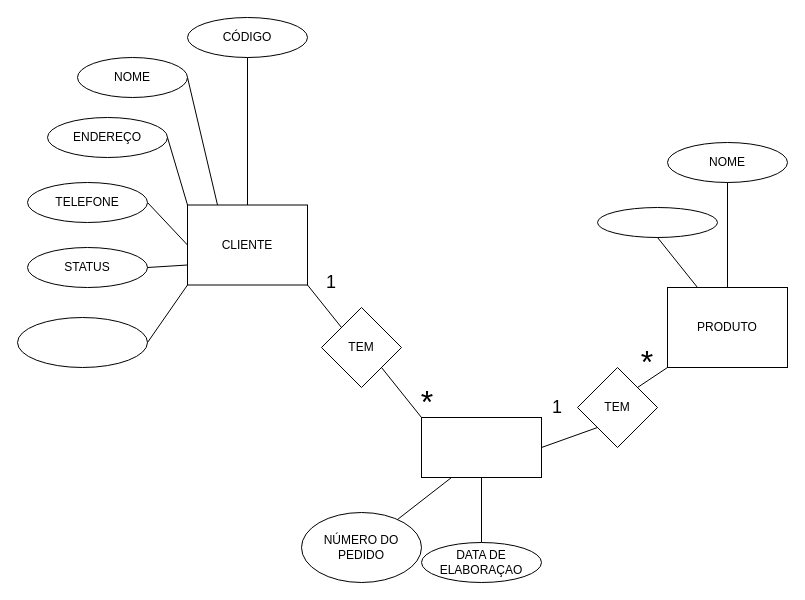
Image size: 805x600. Some labels were removed from this diagram. The shapes that lost their labels are listed below. From the top down, each one's box as (x1, y1, x2, y2) in pixels, then its label:
(596, 206, 718, 238): QUANTIDADE
(16, 316, 148, 368): LIMITE DE CREDITO
(420, 416, 542, 478): PEDIDO
